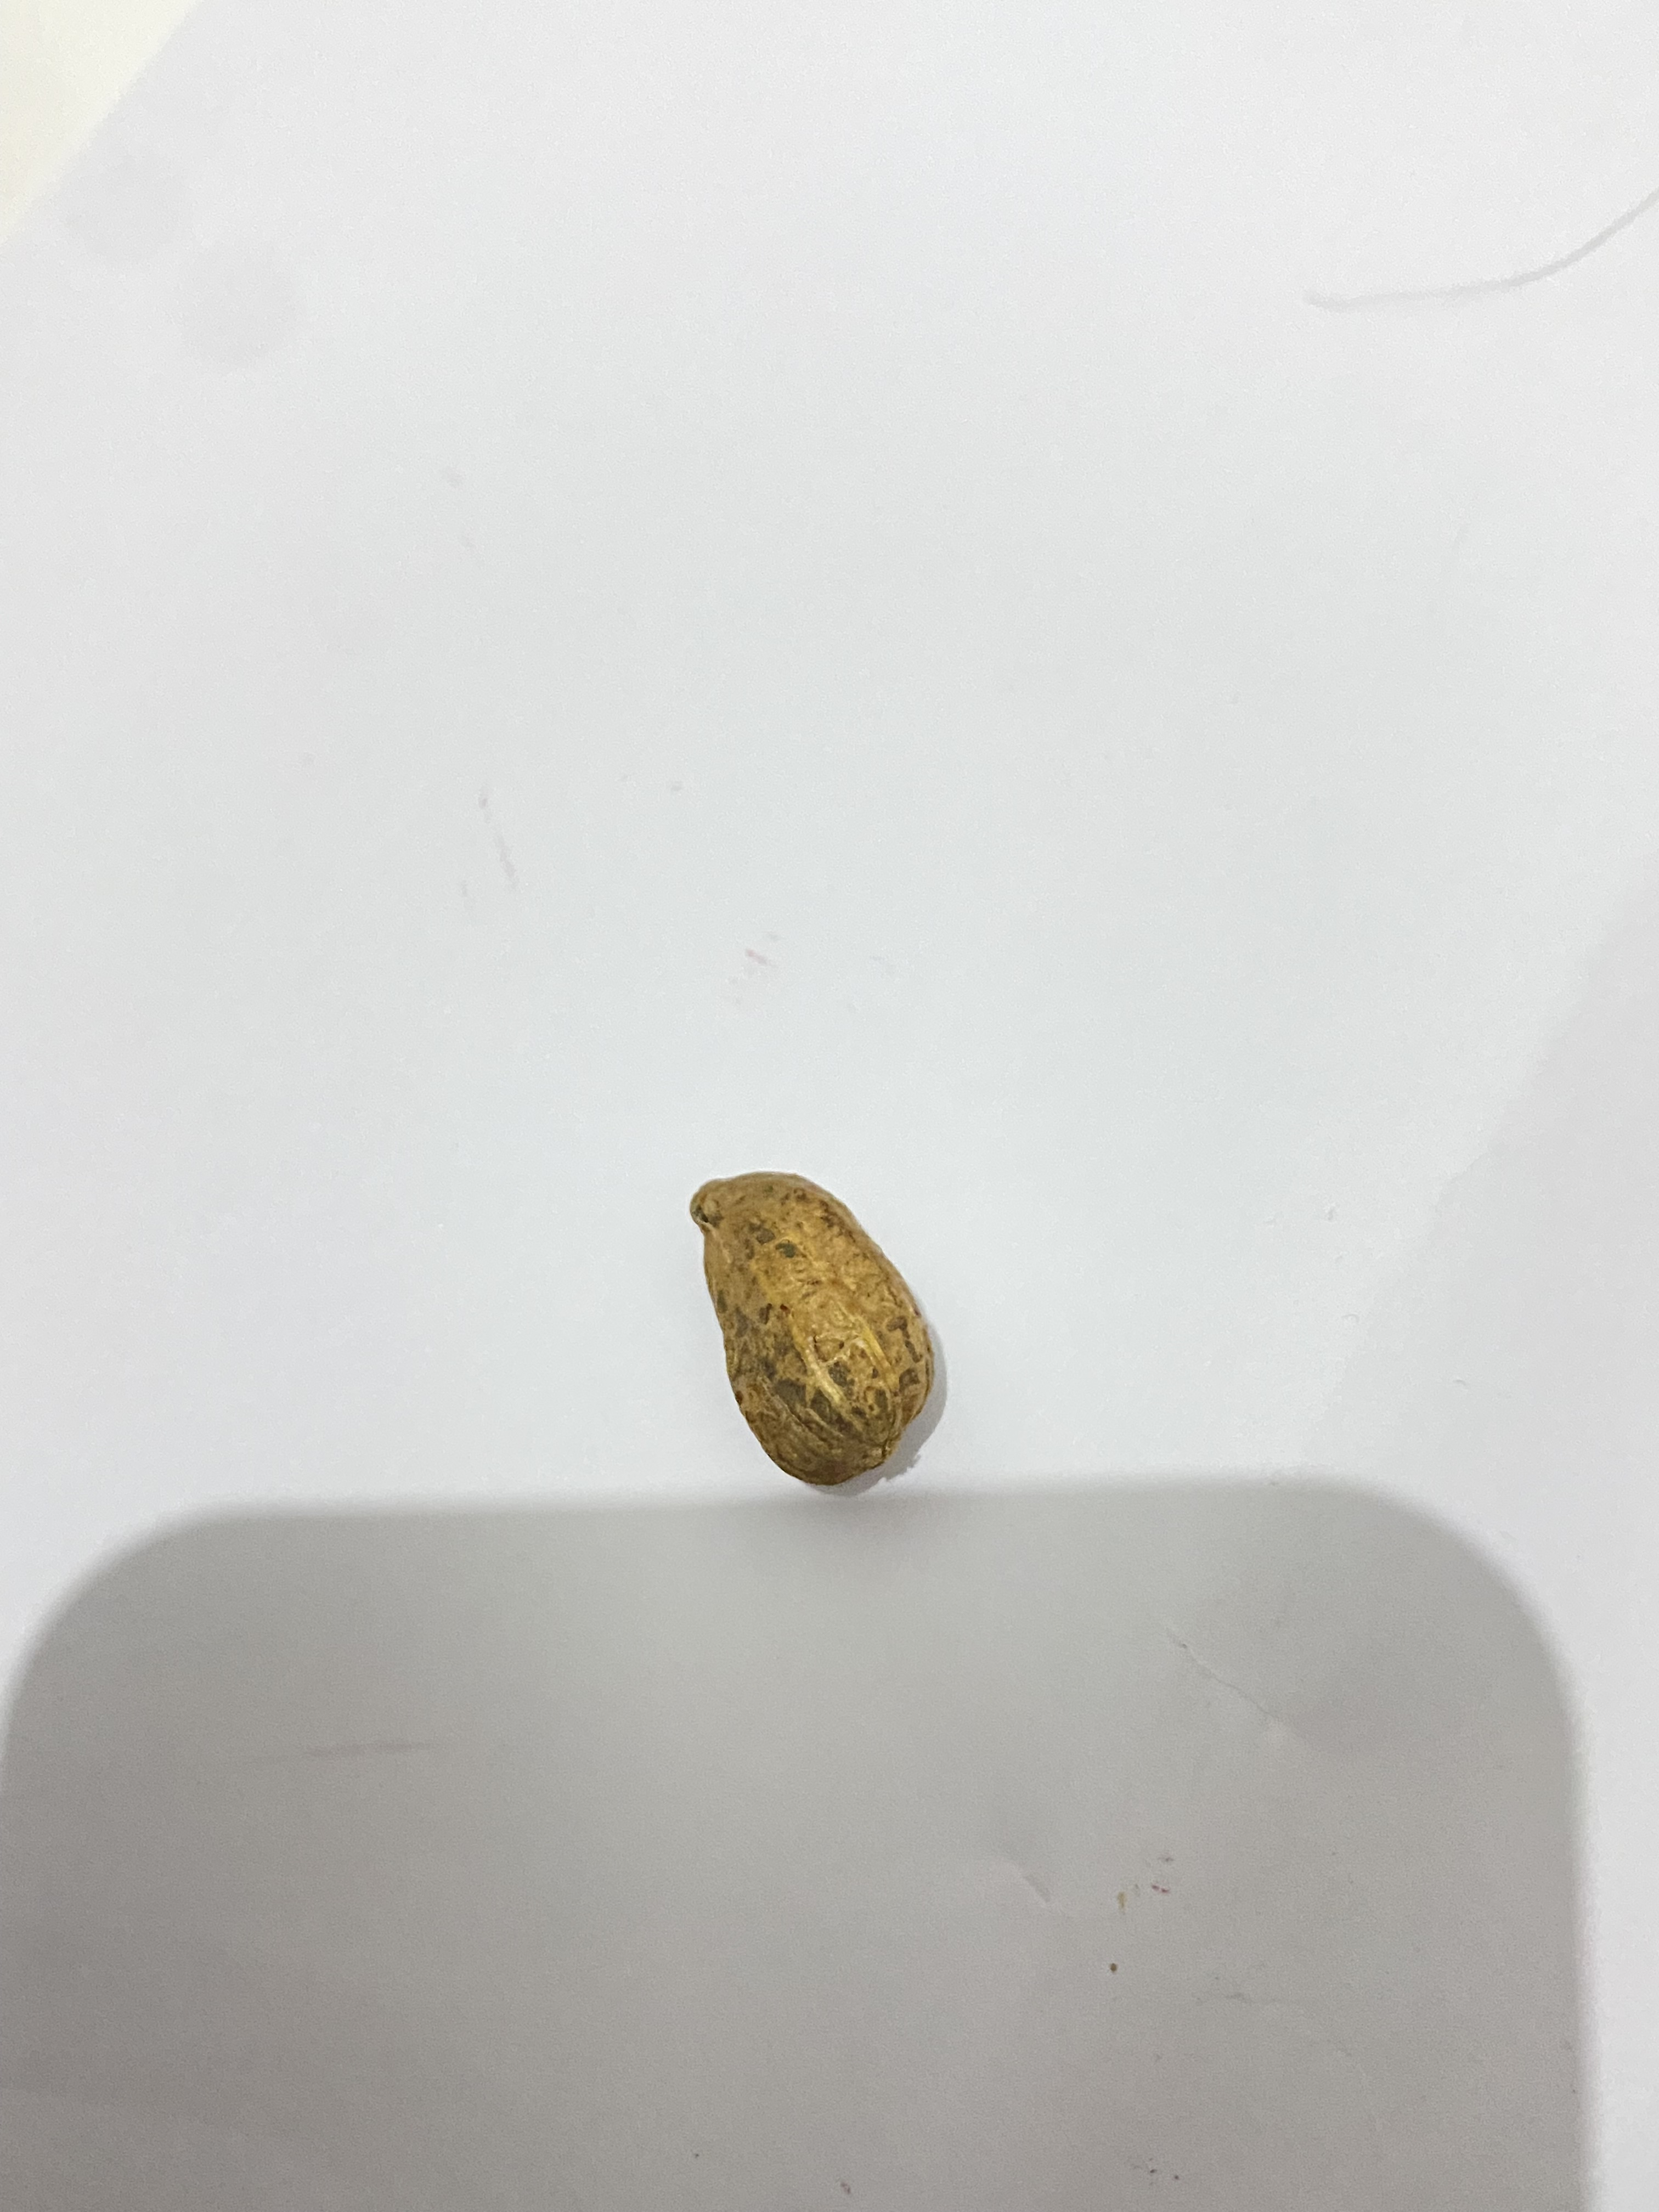kacang1: (633, 1148, 1002, 1493)
